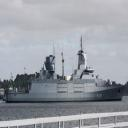Fragata: (4, 36, 128, 107)
